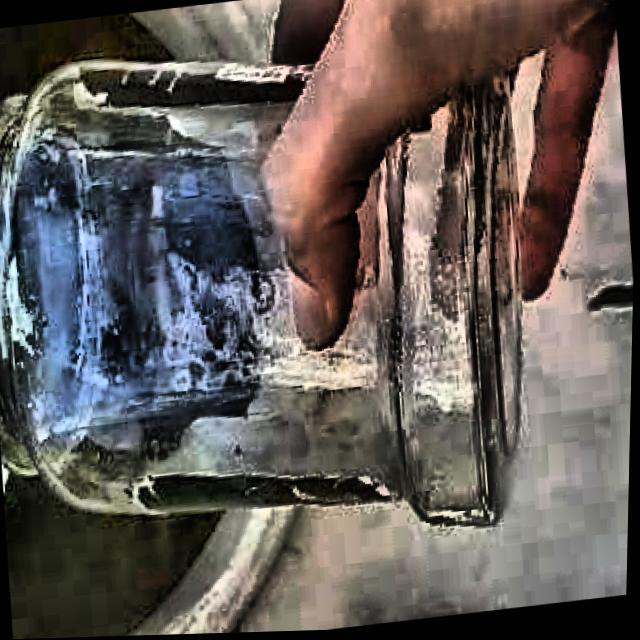glass: (0, 60, 522, 524)
